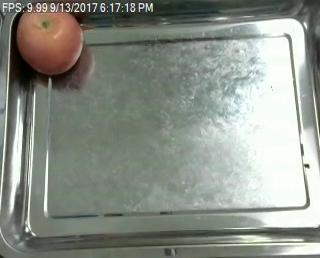apple: (15, 12, 87, 76)
